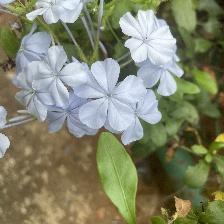chitrak: (75, 57, 147, 132), (32, 45, 90, 112), (118, 6, 177, 65)
